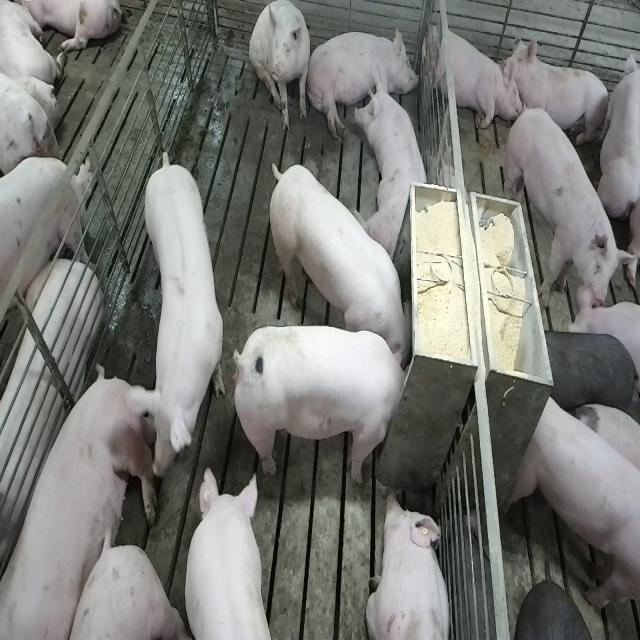Feeding: (264, 160, 412, 365), (228, 323, 409, 483)
Lateral_lying: (0, 259, 100, 612), (306, 23, 419, 140)
Sitting: (249, 1, 312, 134)
Standing: (505, 390, 638, 627), (134, 148, 224, 479), (503, 109, 623, 328), (0, 159, 93, 343), (179, 466, 272, 640), (536, 326, 636, 422)
Sternal_lying: (356, 73, 433, 259), (366, 489, 453, 640), (504, 36, 610, 150), (424, 19, 514, 132)
